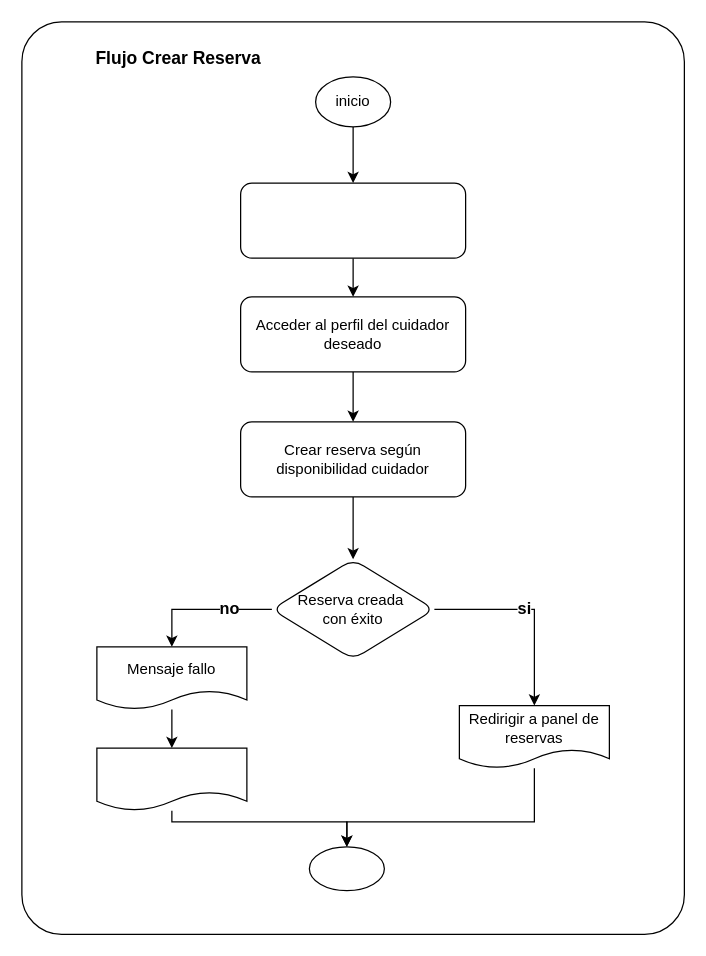
Image size: 706x956. Some labels were removed from this diagram. The centre of each missing label's shape, as x and y in pixels:
"fin" goes at pixel 346 868.
"Redirigir a pantalla de inicio" goes at pixel 171 779.
"Usuario autenticado visualiza listado cuidadores disponibles" goes at pixel 352 220.
